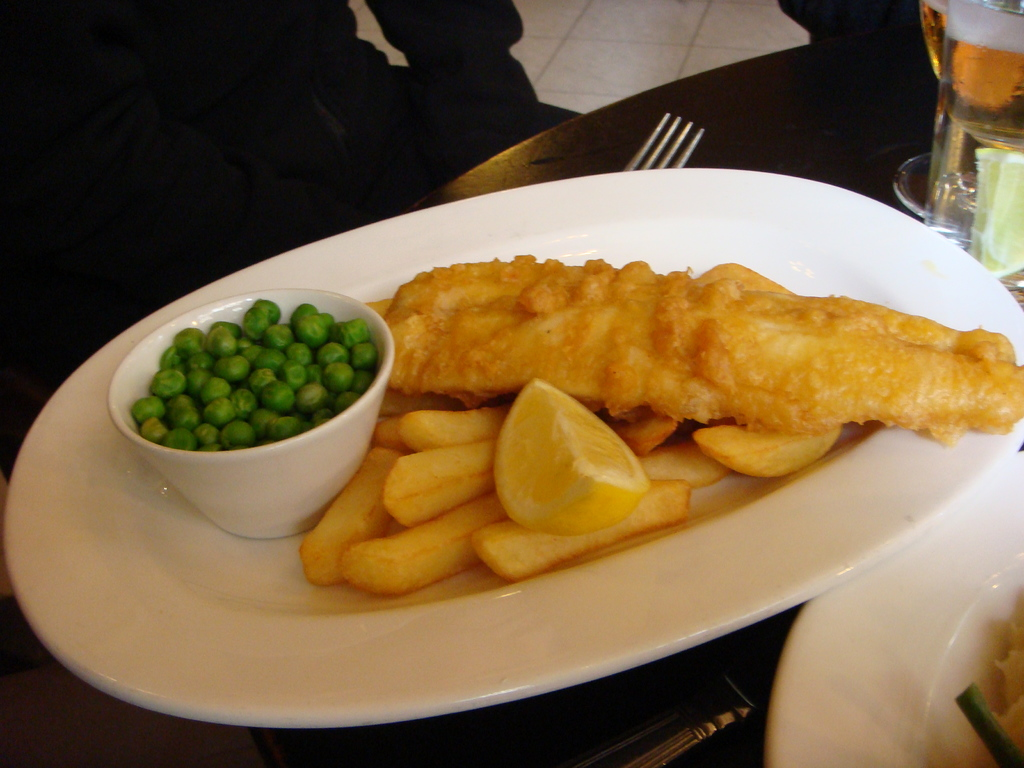French fries: (296, 400, 506, 609)
